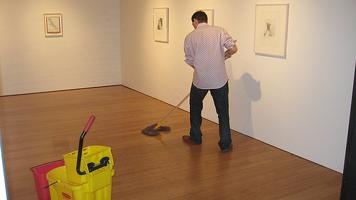person without safety: (181, 8, 240, 155)
